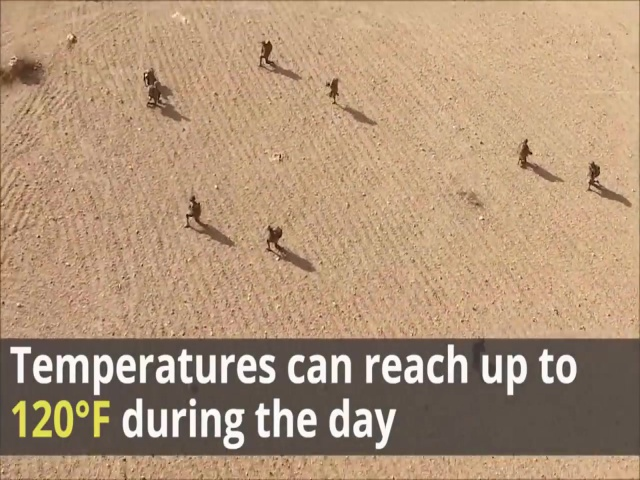person: (183, 195, 205, 231), (255, 40, 276, 71), (515, 137, 534, 171), (265, 225, 284, 256), (585, 160, 603, 192), (323, 75, 340, 107), (145, 81, 163, 110)
